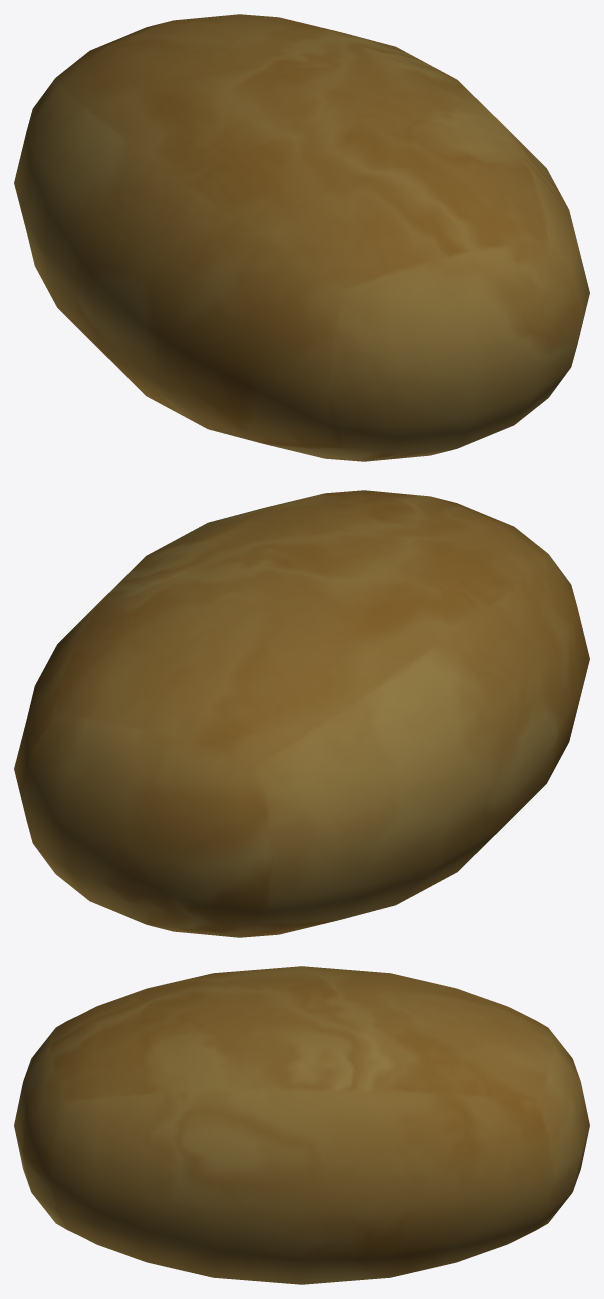
Rendered from potato.fbx.
The picture shows the model from 3 angles, top to bottom: view 1: azimuth 30°, elevation 25°; view 2: azimuth 150°, elevation 25°; view 3: azimuth 270°, elevation 25°; orthographic projection. The views are drawn at different scales.
Visible parts, largest first — view 1: Cube.003; view 2: Cube.003; view 3: Cube.003.
Part boxes in pixels (x1,y1,x2,y2): Cube.003: [14, 14, 589, 461]; Cube.003: [14, 490, 589, 937]; Cube.003: [14, 966, 589, 1284].
Size of the model in its own units: 14.73 by 10.9 by 21.19.
